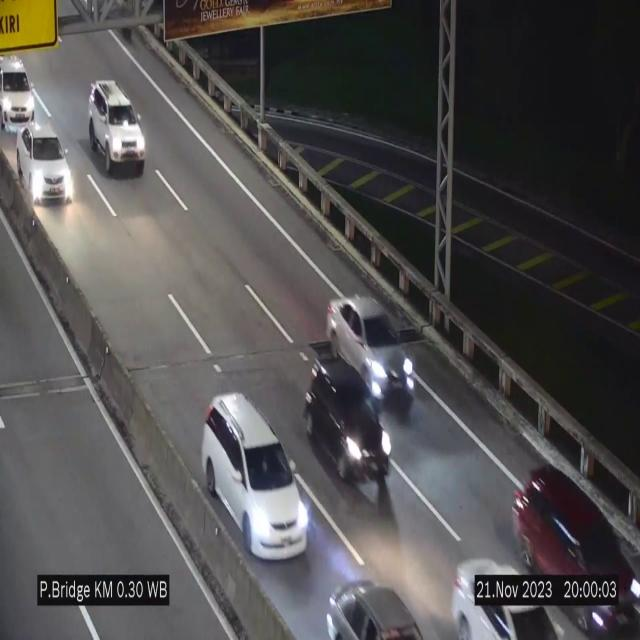Car: (508, 450, 640, 640), (201, 392, 311, 560), (304, 346, 392, 493), (442, 536, 558, 640), (327, 292, 421, 412), (322, 554, 427, 640), (9, 118, 77, 215), (89, 80, 145, 174), (0, 44, 38, 136)
